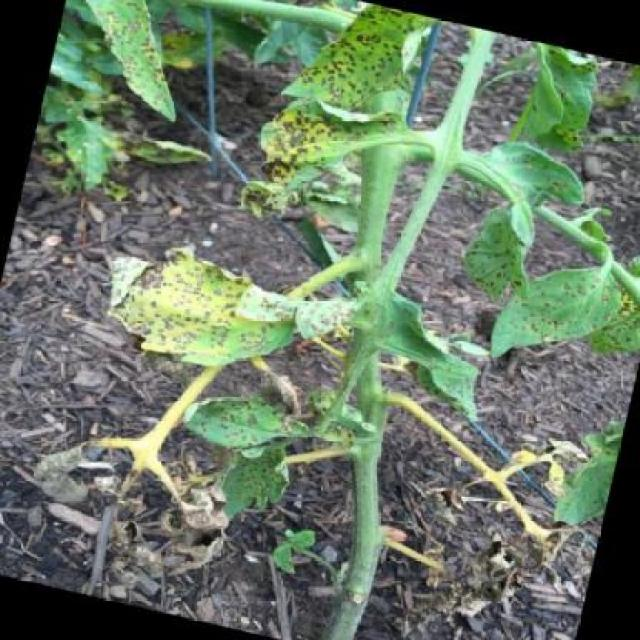Septoria leaf spot: (54, 226, 388, 409), (230, 85, 418, 249), (272, 0, 463, 134), (472, 242, 637, 391), (51, 0, 208, 122), (154, 374, 314, 468), (202, 430, 326, 541), (374, 288, 478, 420), (448, 188, 554, 308)
